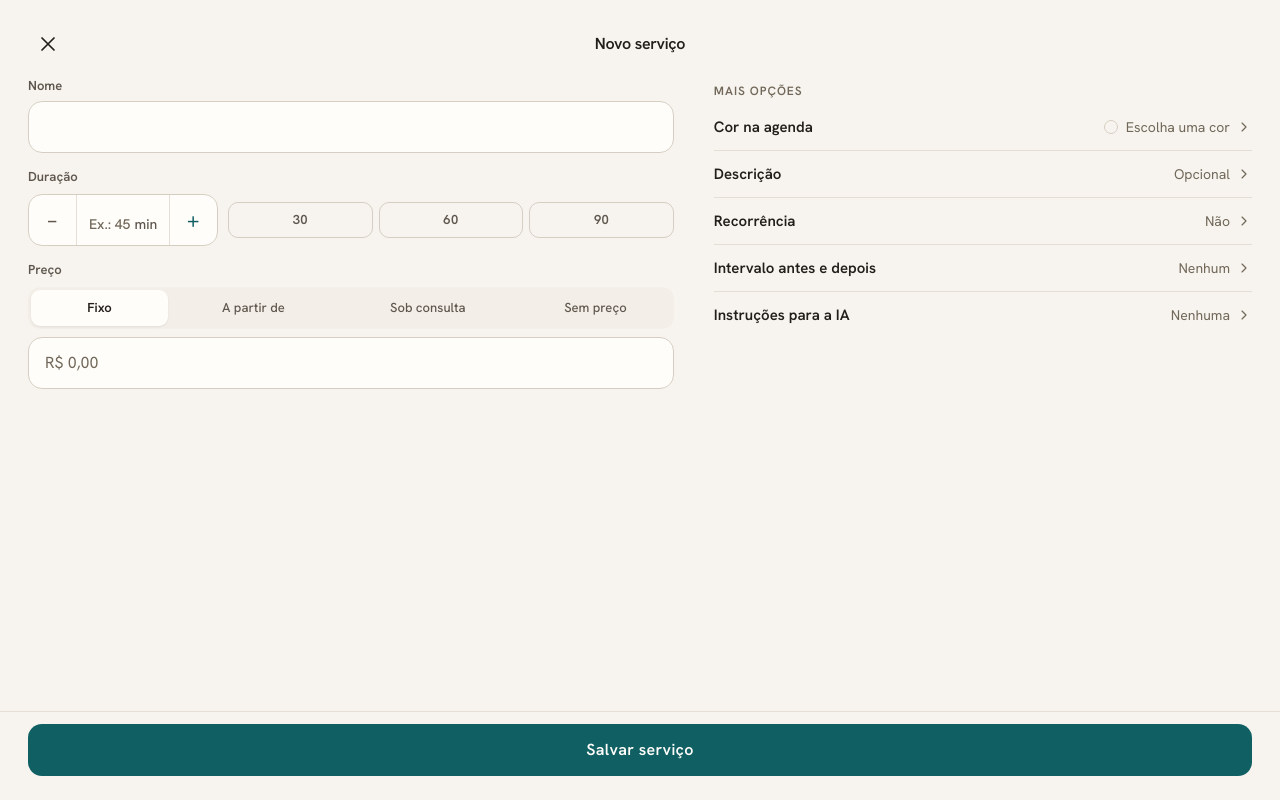
Scenario: Goal095 prova 2: novo serviço (S3) › a frase 'A IA responde' acompanha o formulário
Type "Manicure" into the field labelled "Nome" at point(351, 127), box left=28, top=101, right=674, bottom=153
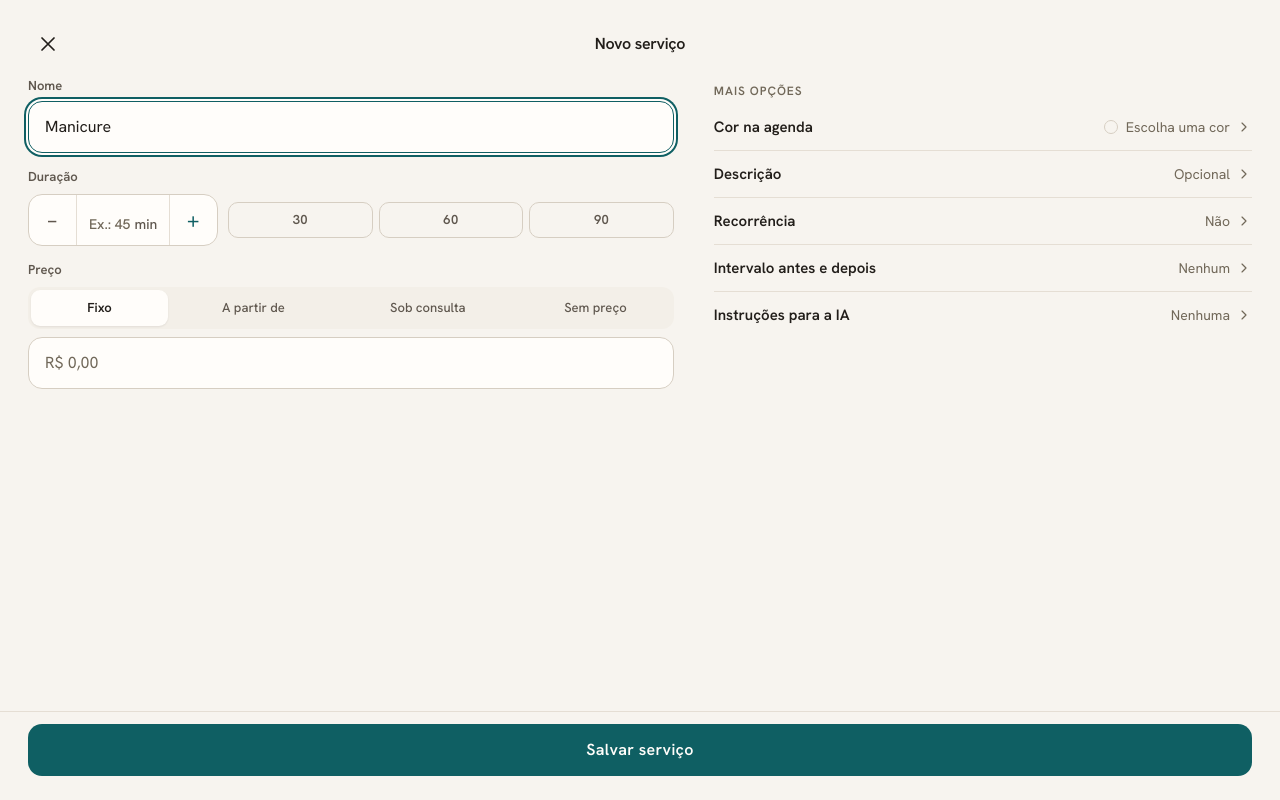
Type "40" into the number field named "Duração (minutos)" at point(110, 220), box left=89, top=205, right=130, bottom=235
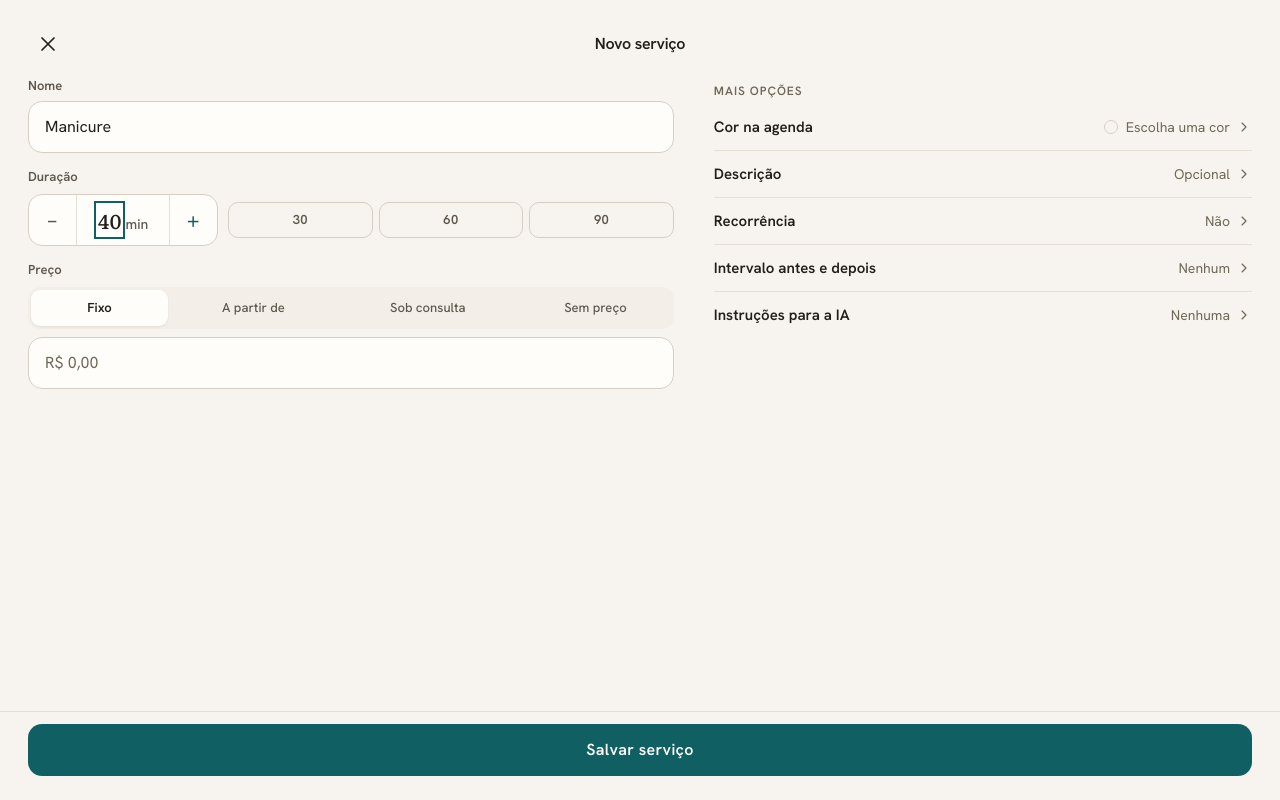
Type "5" into the field with placeholder "R$ 0,00" at point(351, 363), box left=28, top=337, right=674, bottom=389
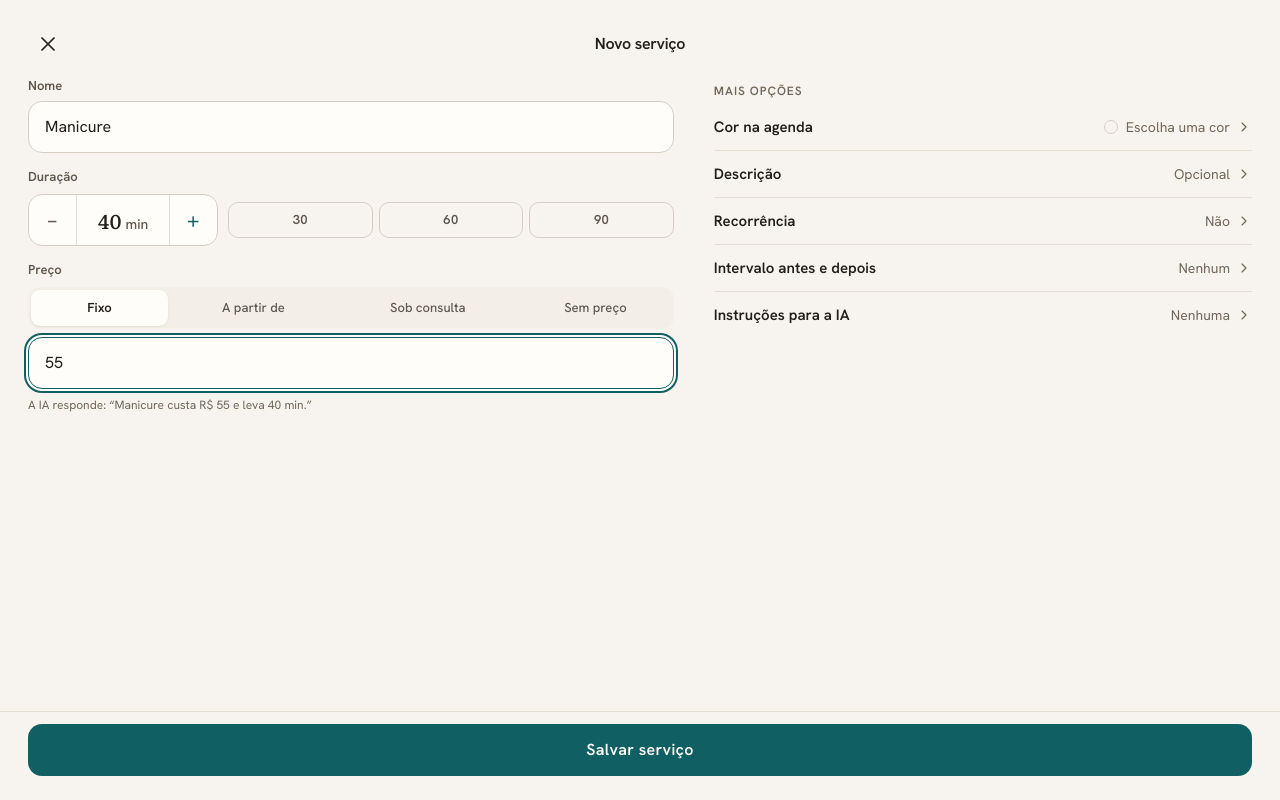
Result: the text "A IA responde: “Manicure custa R$ 55 e leva 40 min.”" is shown at left=28, top=397, right=312, bottom=413
